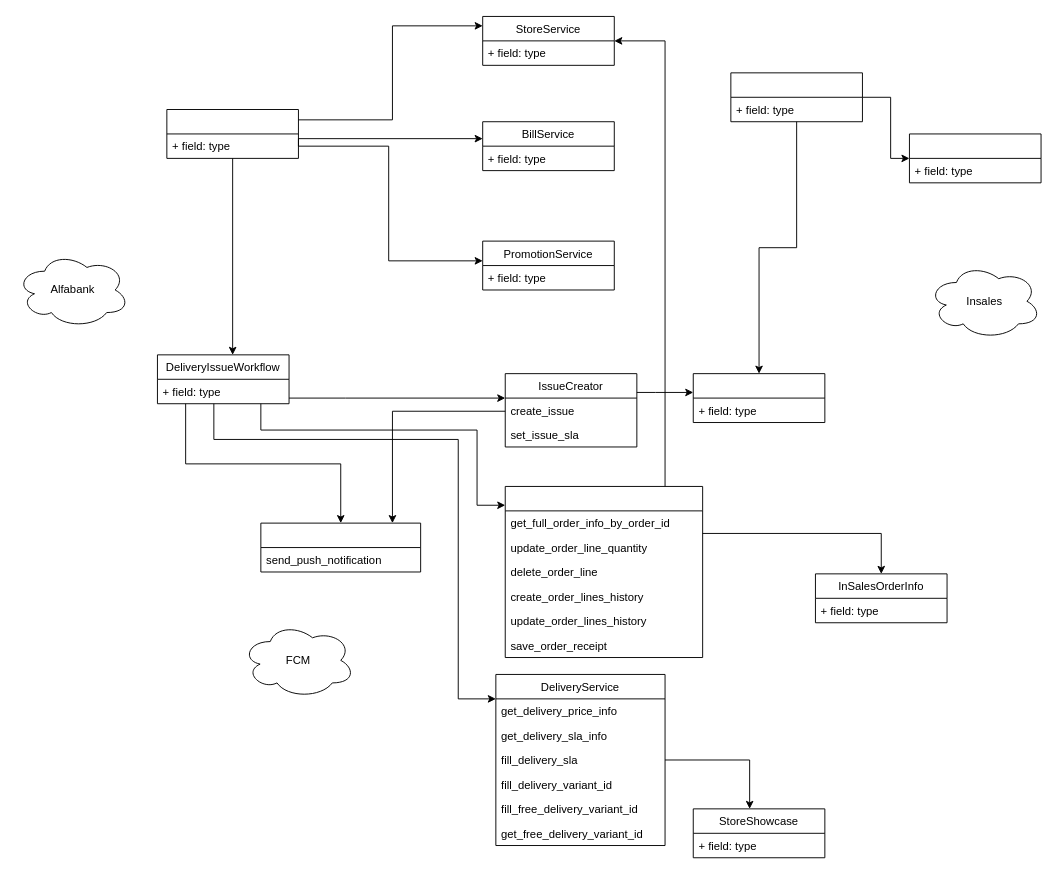
Some shapes in this 1058 by 877 pixel diagram are drawn without their labels. Each missing label, with the box of its shape:
Issue: (692, 373, 825, 423)
Order: (730, 72, 862, 122)
OrderLineHistory: (909, 133, 1041, 183)
OrdersService: (504, 486, 703, 658)
SendPushNotificationTask: (260, 522, 421, 572)
ShopOrderWorkflow: (166, 109, 298, 158)
